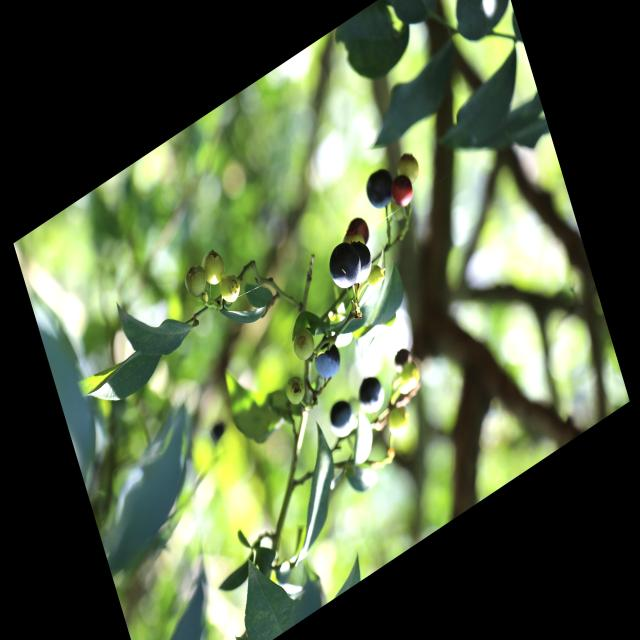blueberry: (323, 235, 363, 296), (322, 389, 358, 443), (363, 162, 397, 216), (312, 334, 346, 386), (354, 370, 388, 419), (347, 237, 378, 288)
blueberry-halfripe: (389, 171, 416, 212)
blueberry-unripe: (377, 398, 413, 447), (389, 142, 424, 191), (392, 349, 425, 400), (181, 257, 212, 306), (214, 264, 246, 310), (198, 244, 229, 288), (289, 323, 318, 367), (282, 371, 309, 410)
